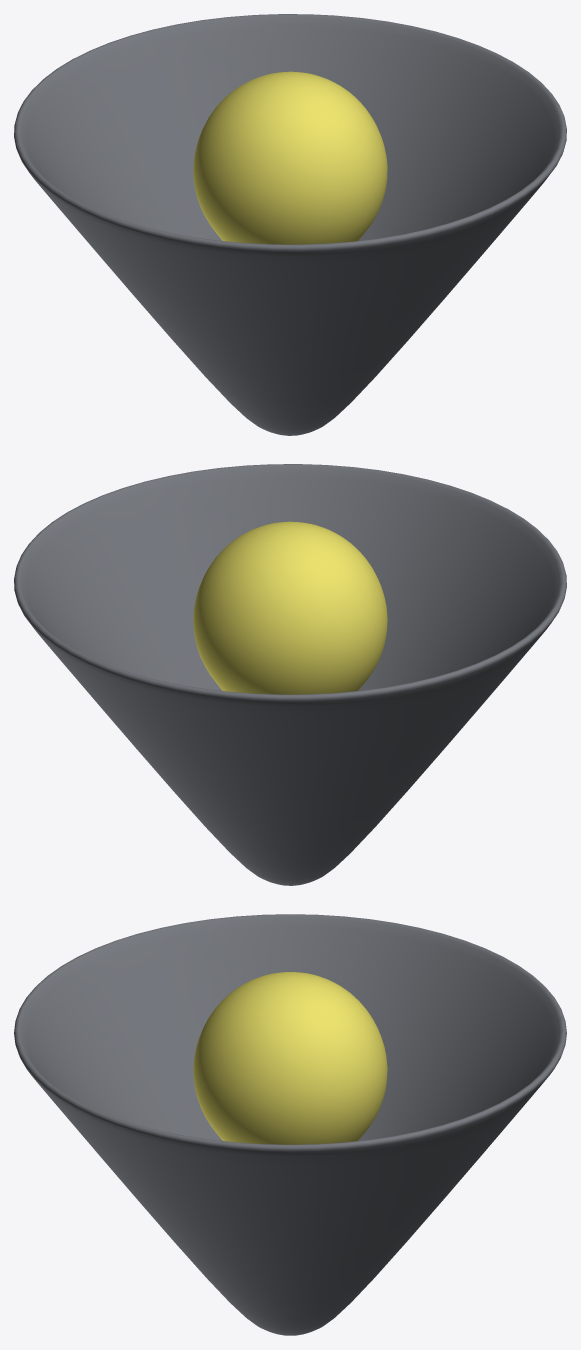
File: Spot Light.fbx
3 renders of one model, top to bottom at view 1: azimuth 30°, elevation 25°; view 2: azimuth 150°, elevation 25°; view 3: azimuth 270°, elevation 25°, orthographic.
Visible parts, largest first — view 1: Spot Light; view 2: Spot Light; view 3: Spot Light.
Boxes of the visible parts, x1=… form: Spot Light: x1=14, y1=14, x2=566, y2=435; Spot Light: x1=14, y1=464, x2=566, y2=885; Spot Light: x1=14, y1=914, x2=566, y2=1335.
Size of the model in its own units: 15896 by 11180 by 15896.
